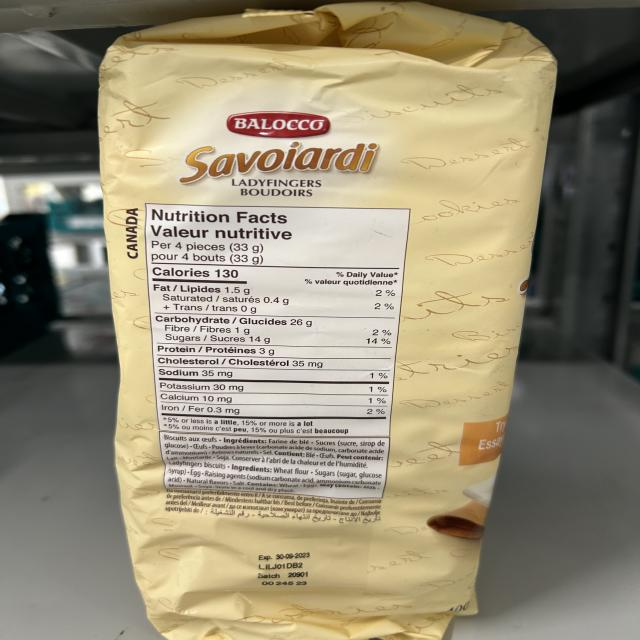object_name: (95, 12, 492, 640)
